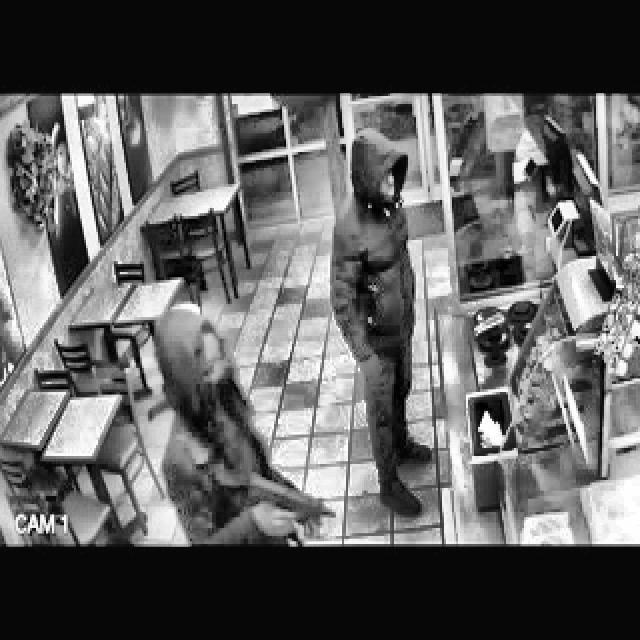robbery: (325, 125, 443, 520), (153, 308, 342, 546)
